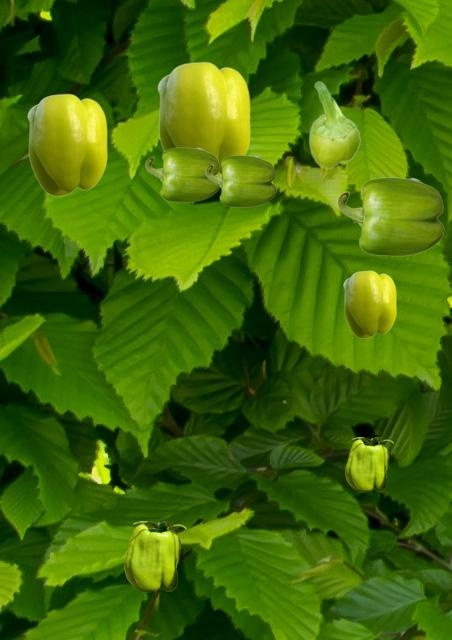bell_pepper: (157, 61, 249, 174), (337, 177, 443, 255), (27, 93, 106, 195), (308, 81, 360, 168), (124, 521, 185, 591), (145, 147, 219, 201), (205, 155, 275, 206), (343, 270, 395, 337), (345, 437, 392, 491)
